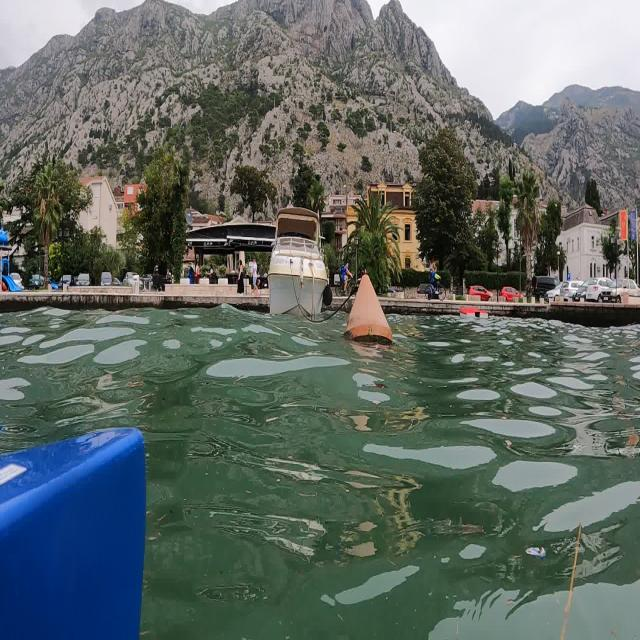boat: (250, 190, 336, 330)
buoy: (344, 262, 400, 356)
